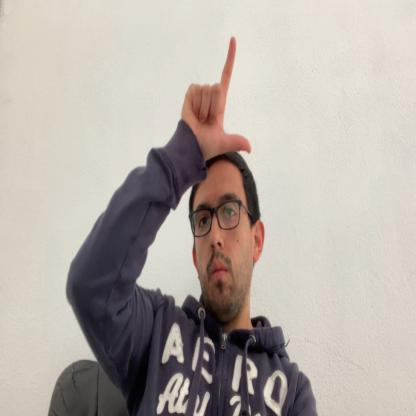L: (181, 36, 252, 157)
